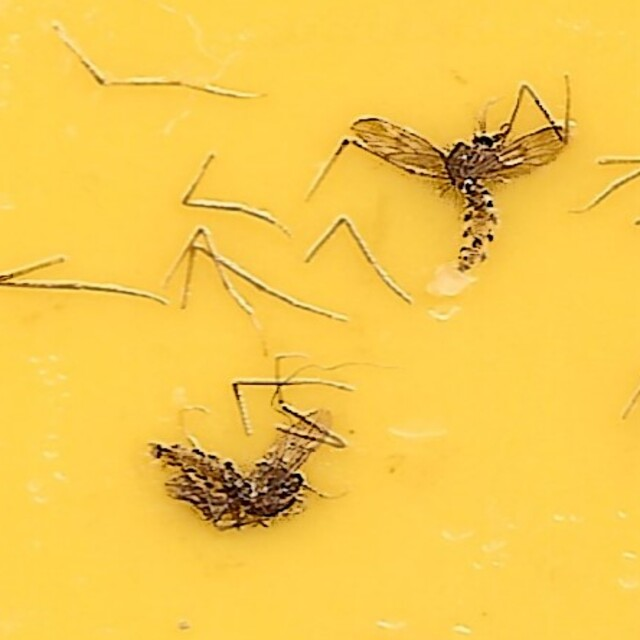Nematocera: (144, 434, 304, 513), (443, 127, 496, 274)
